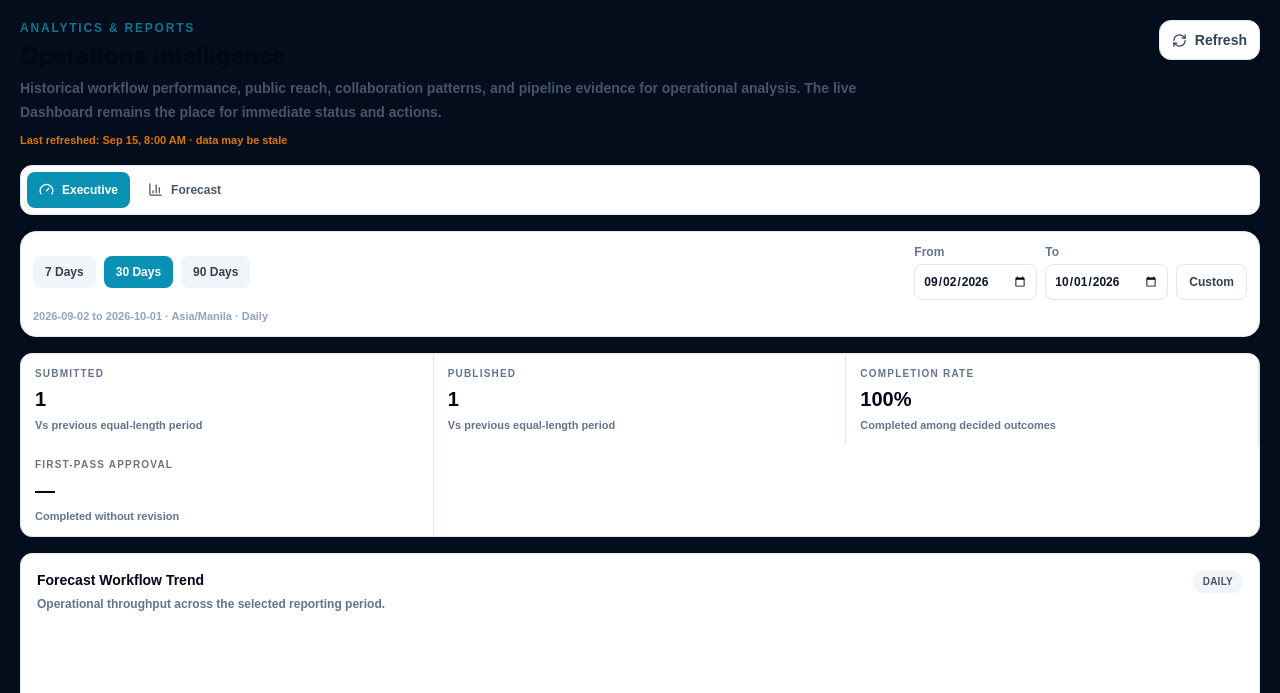
Test case: AnalyticsAccess production workspace › keeps cached data visible when refresh fails
Click the button "Refresh".
click(1209, 40)  # box [1159,20,1260,60]
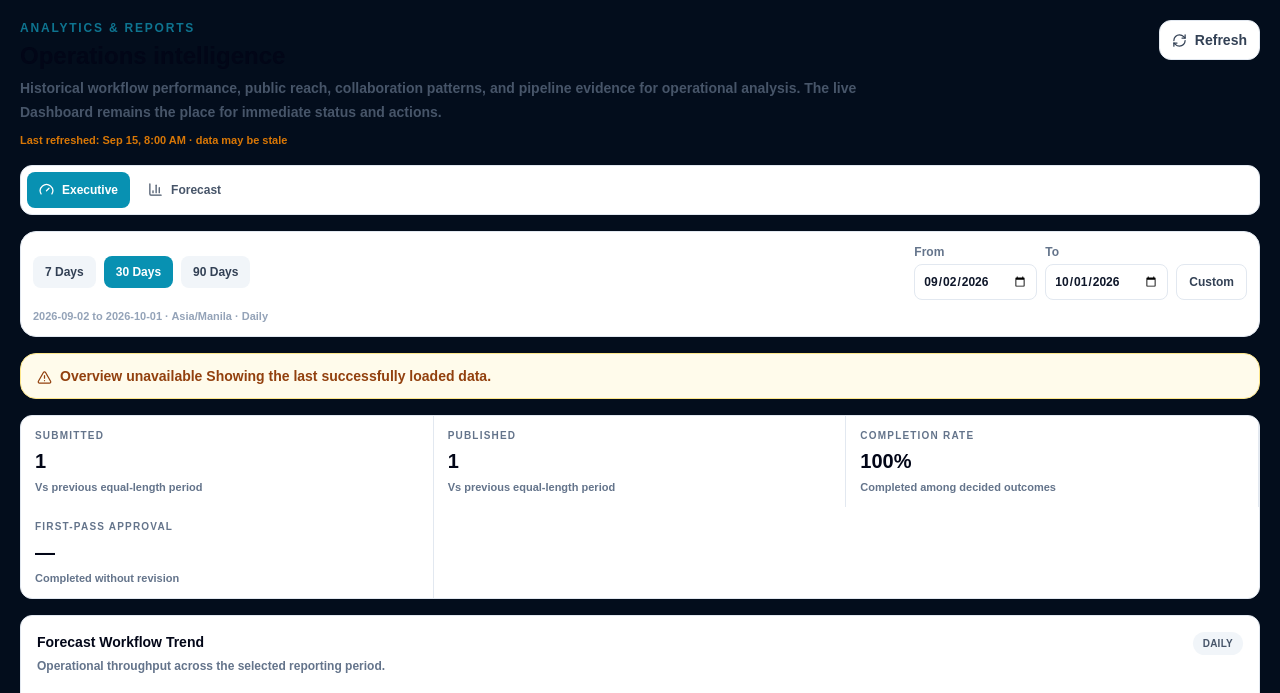
Expected: the text "Submitted" is shown, [35,430,104,441]
Expected: the message shows "Overview unavailable", [60,368,202,384]
Expected: the message shows "Showing the last successfully loaded data.", [202,368,491,384]
